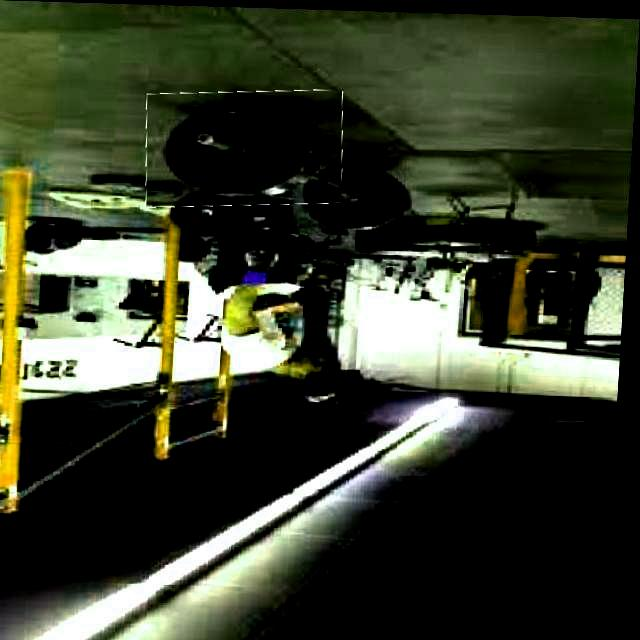barbell: (145, 86, 349, 210)
